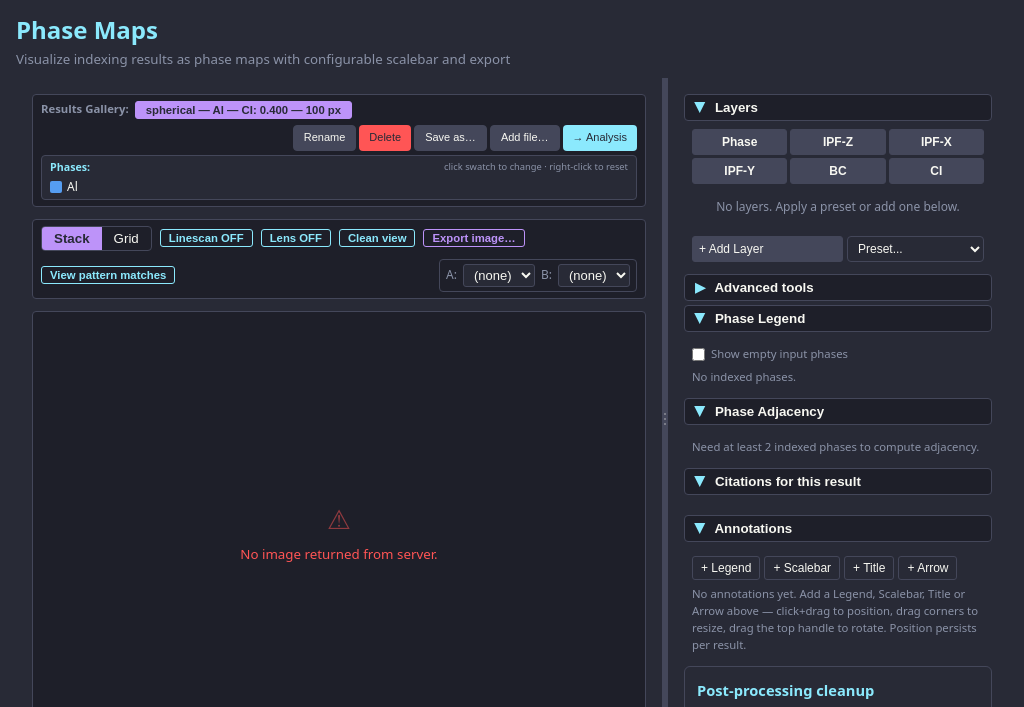
Test case: a result this session did not index › holds the refinement layers back when there is no refined result (control)
Check: the tab "spherical — Al — CI: 0.400 — 100 px" is shown, box [135, 101, 352, 119]
Click the button "+ Add Layer" at (768, 249), box [692, 236, 843, 262]
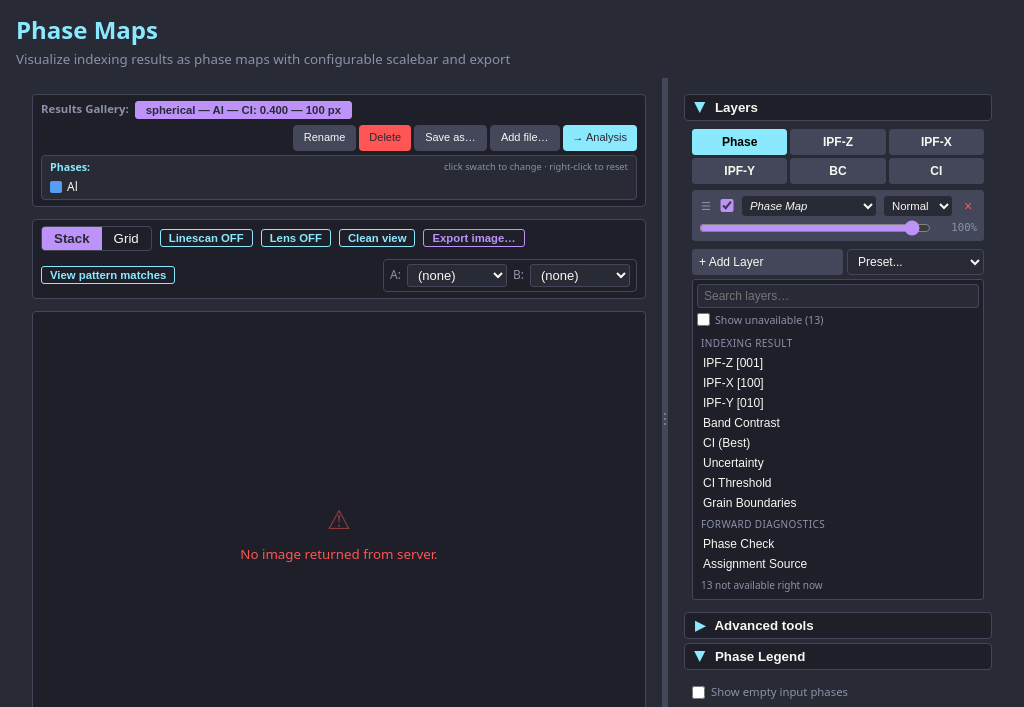
Click the checkbox labelled "Show unavailable (13)" at (704, 320), box [697, 314, 710, 326]
(page scrolled)
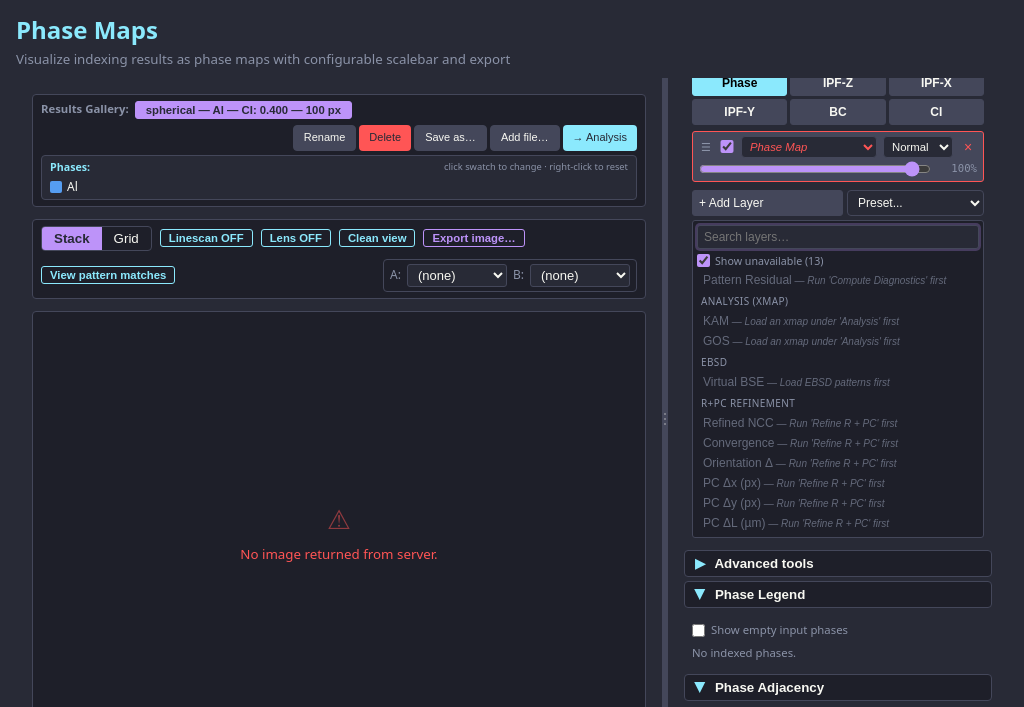
Check: the 1st text "— Run 'Refine R + PC' first" is shown, box [774, 418, 897, 429]
